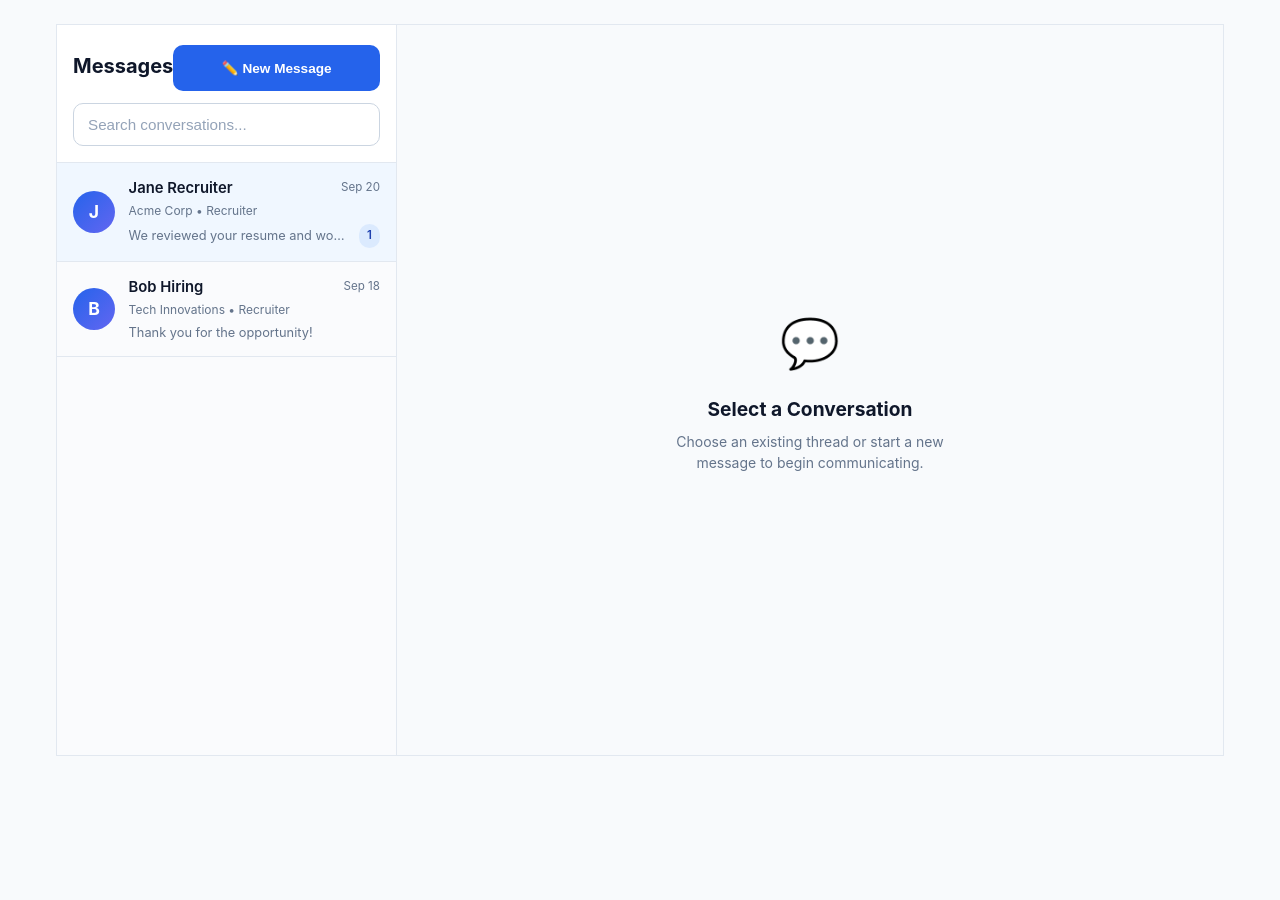
Test: MessagesPage Component › filters conversation list by search query keyword
Expected: the text "Jane Recruiter" is shown, [129,177,233,199]
In the field with test id "conversation-search-input": (226, 124) [73,103,380,146], type "Tech Innovations"
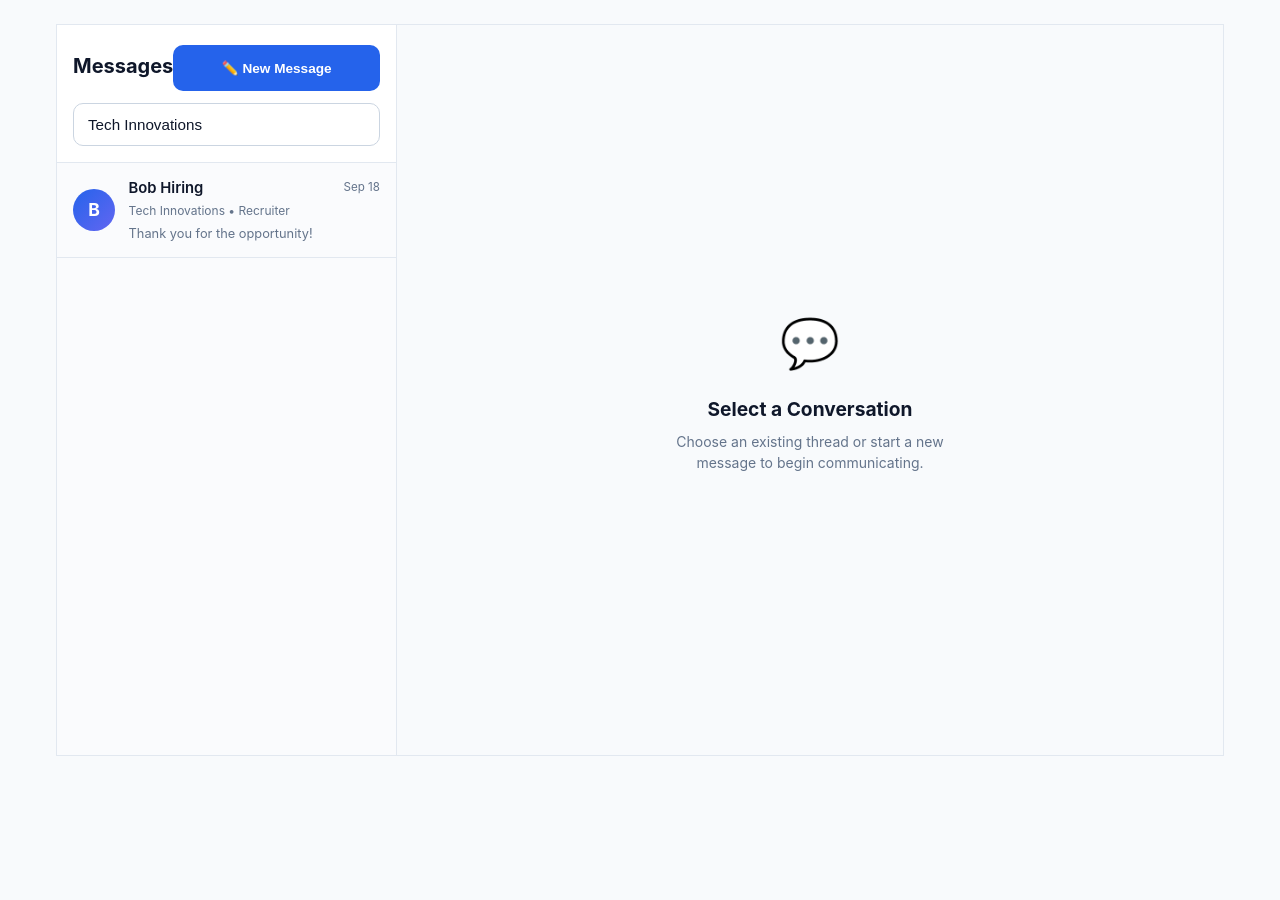
Expected: the text "Bob Hiring" is shown, [129,177,203,199]
Expected: the option "Jane Recruiter" is gone
